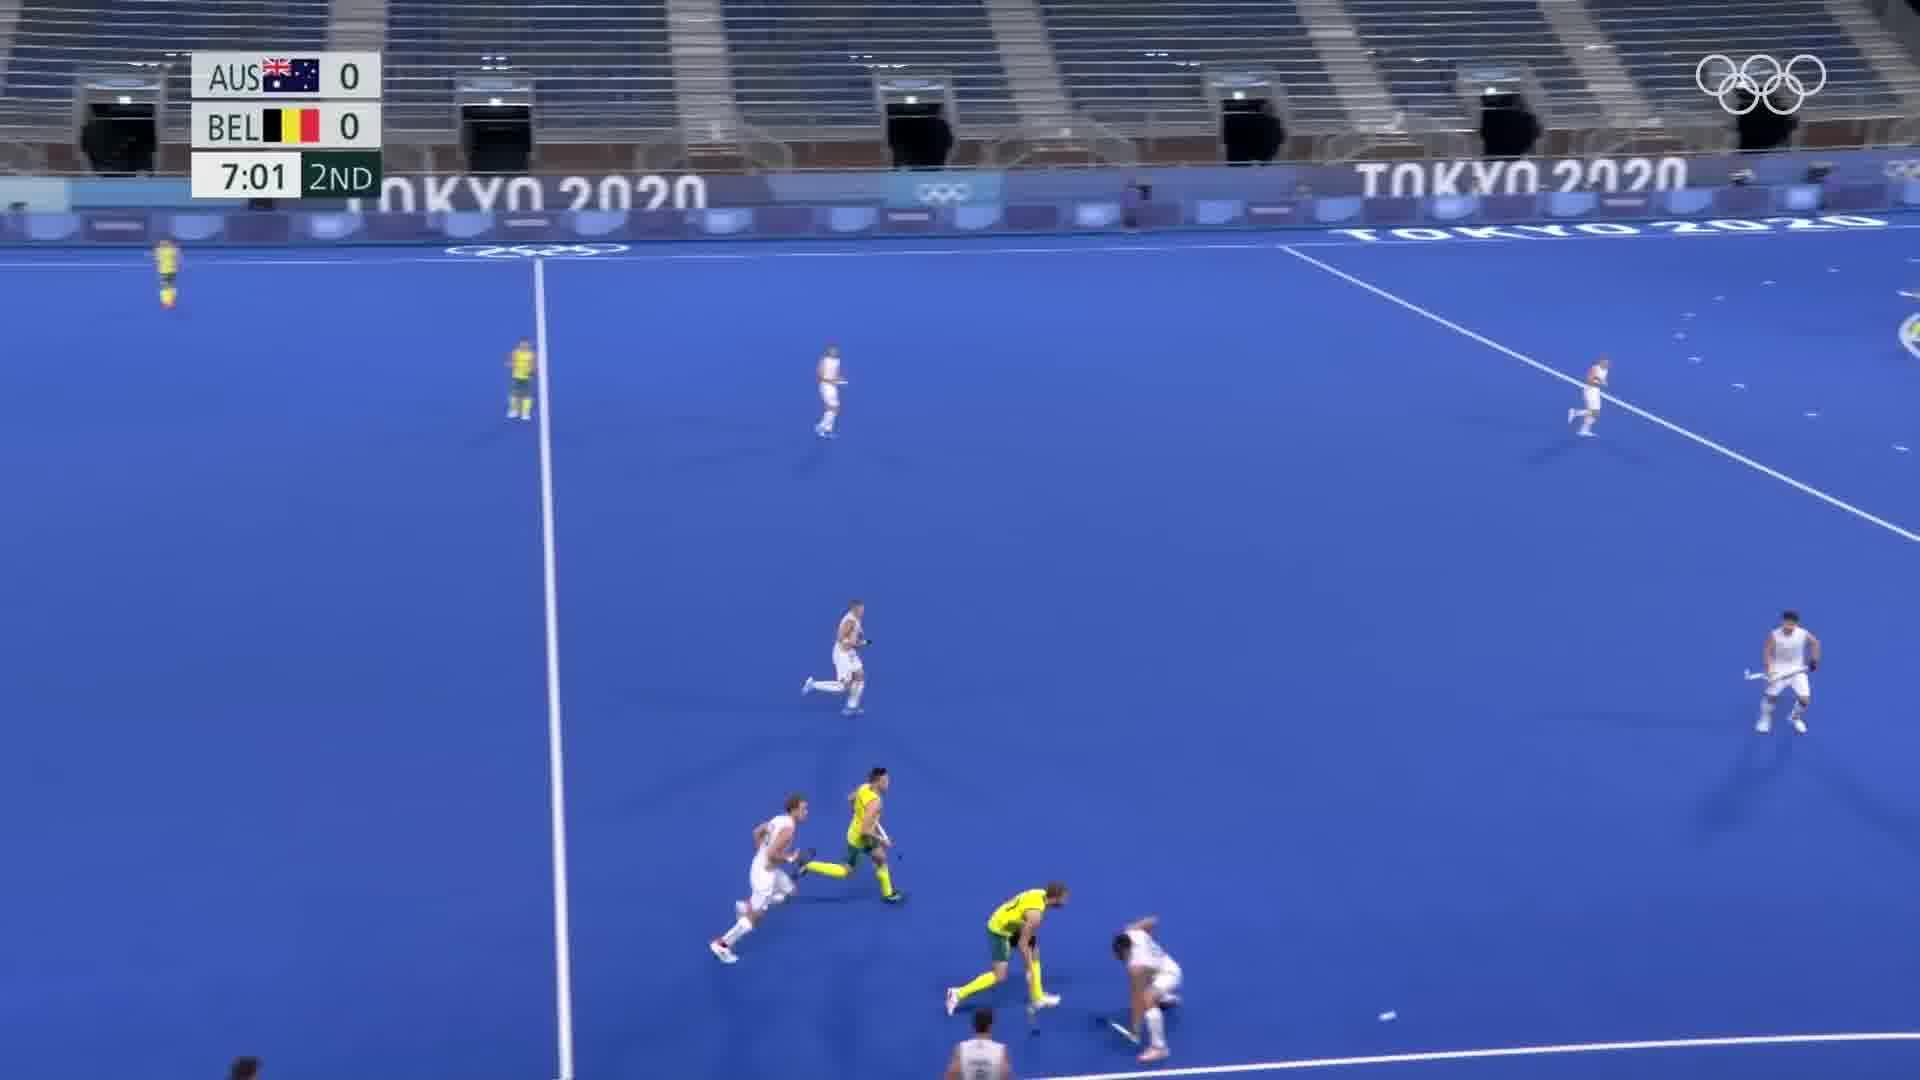ball: (1373, 1002, 1408, 1030)
